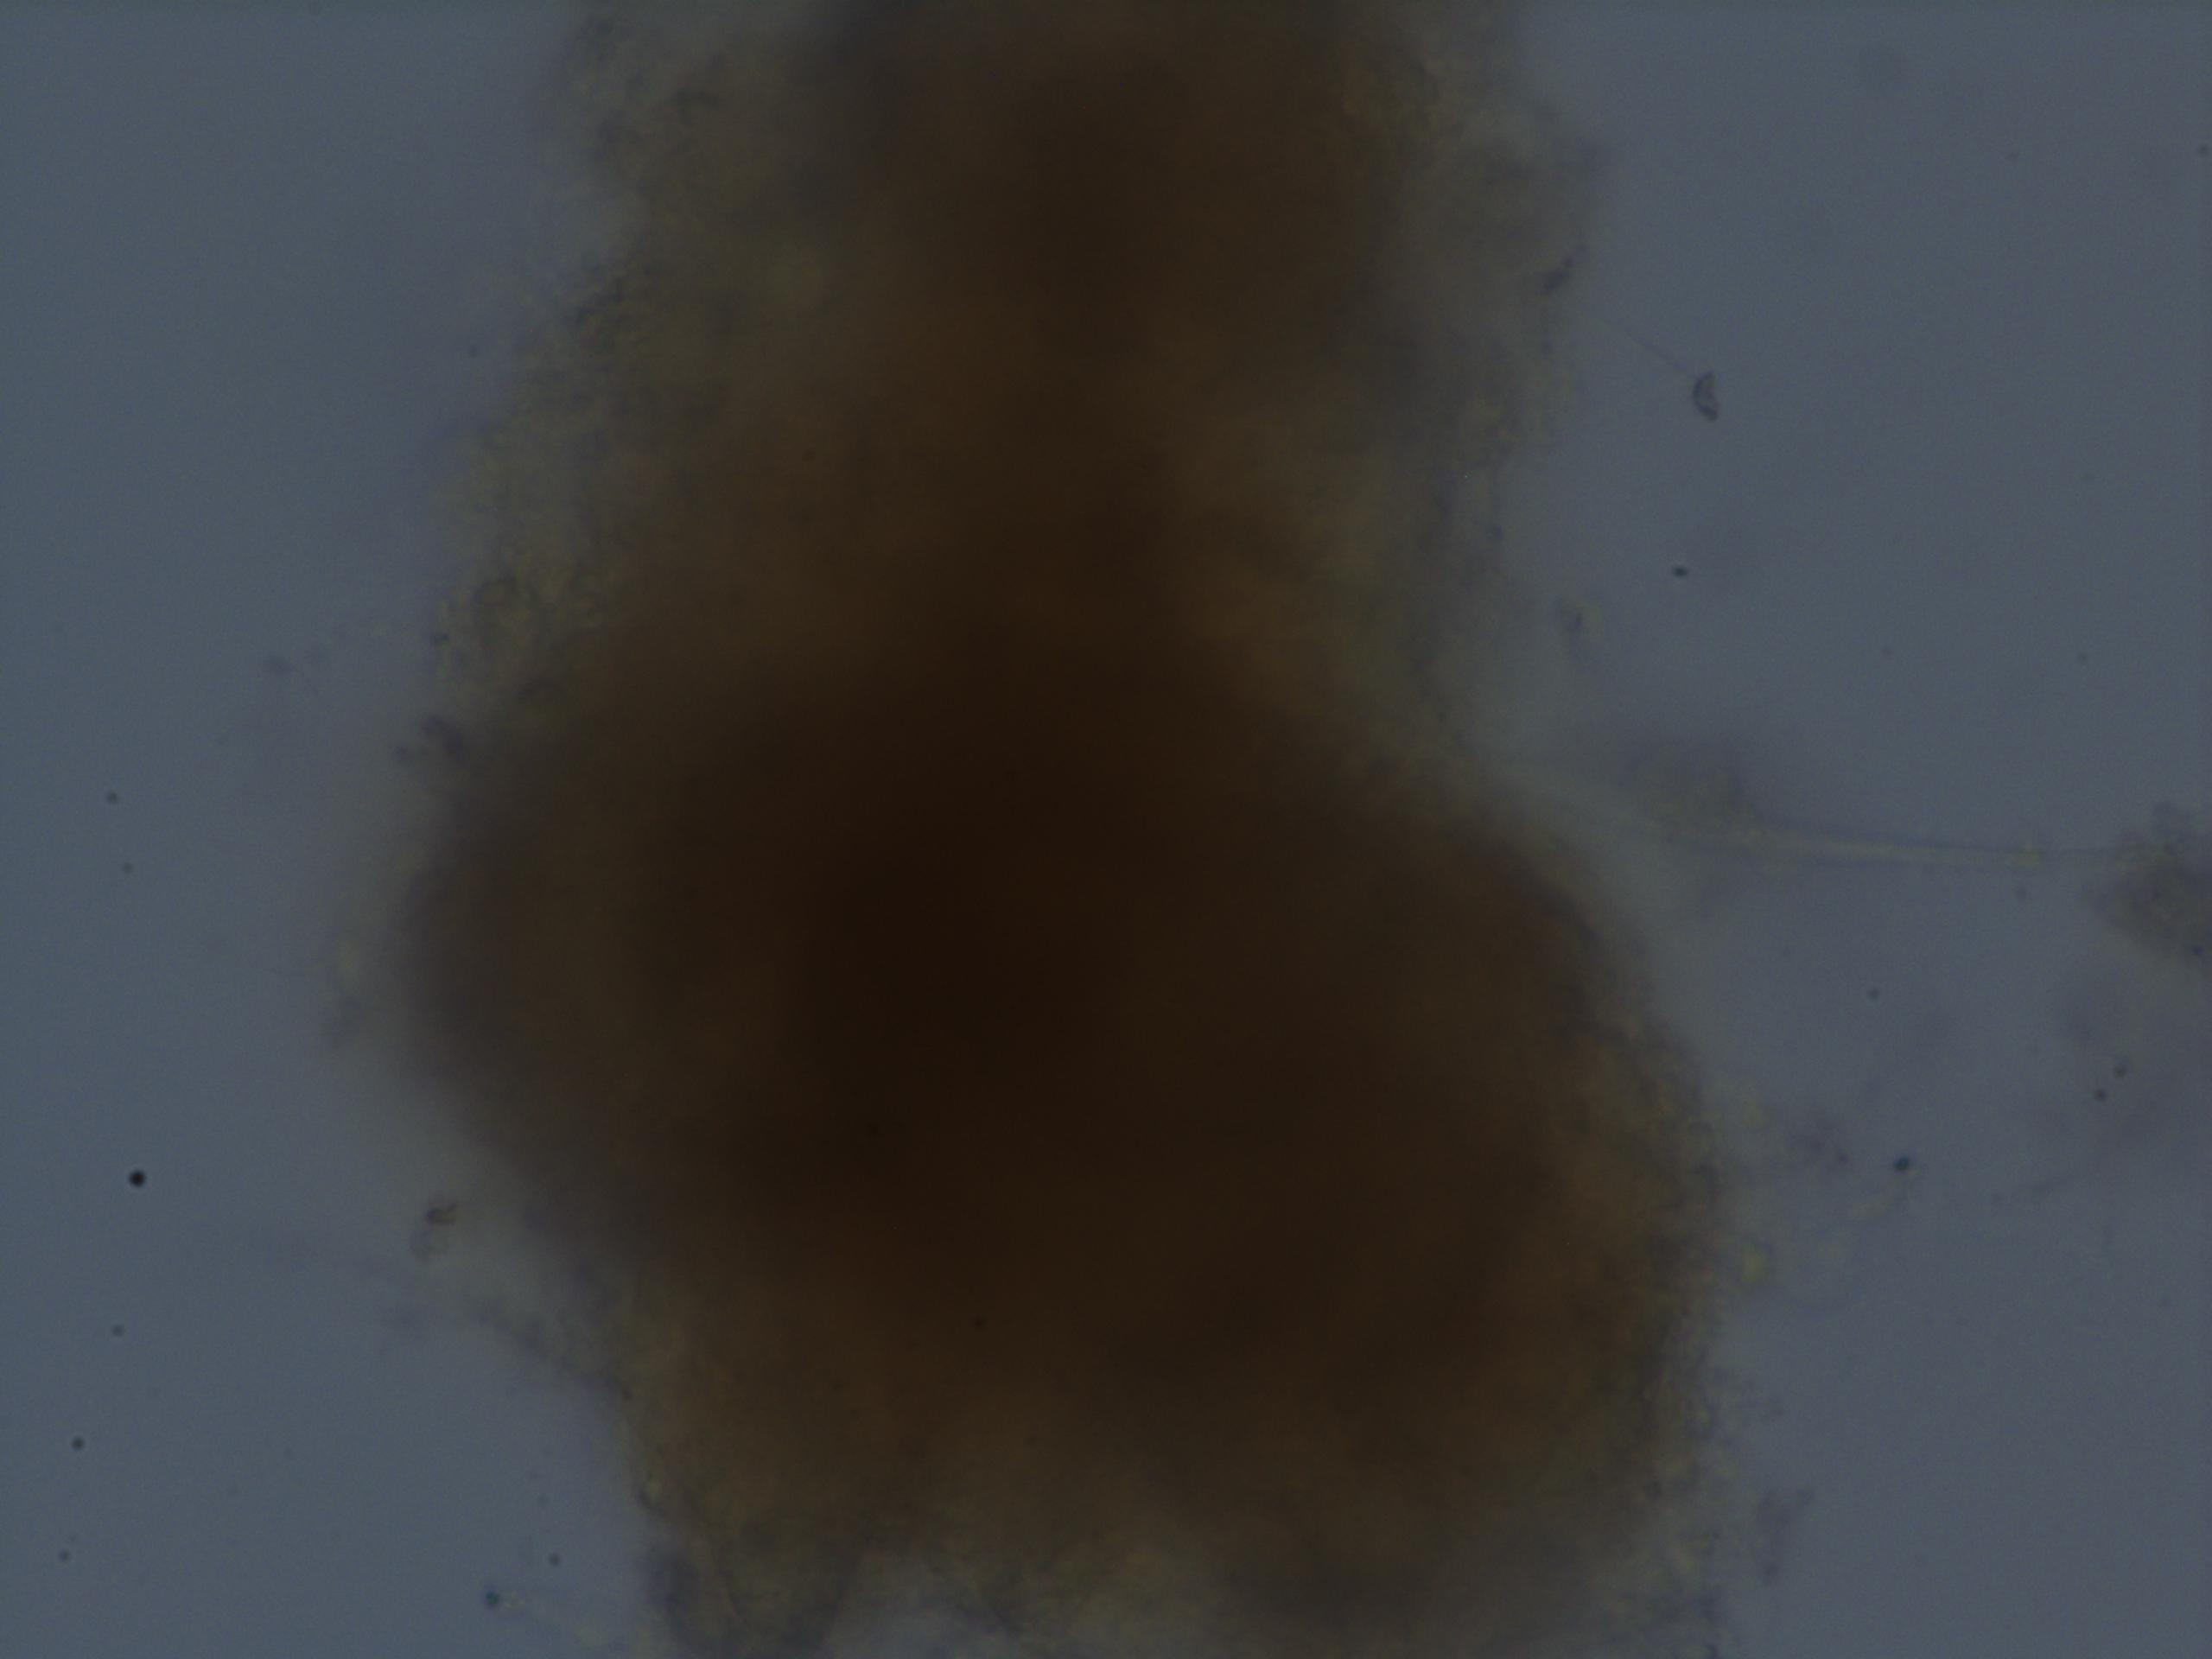filament: (1521, 748, 2212, 943)
spherical_floc: (378, 0, 1726, 1659)
